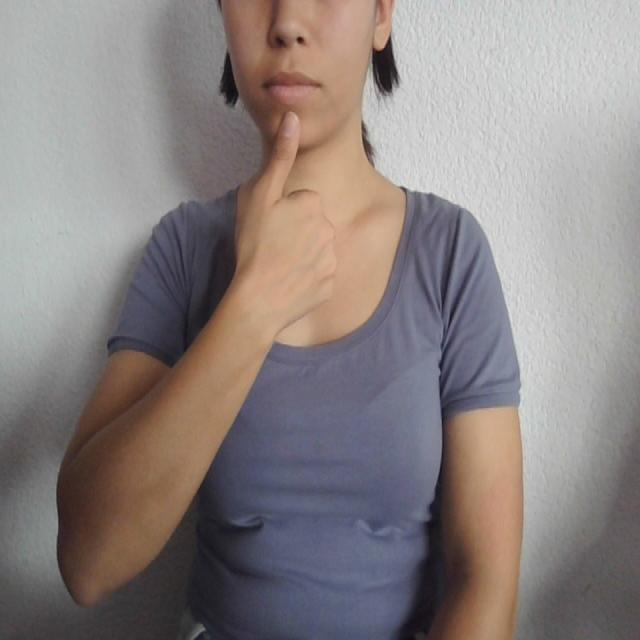Baba: (253, 59, 331, 190)
